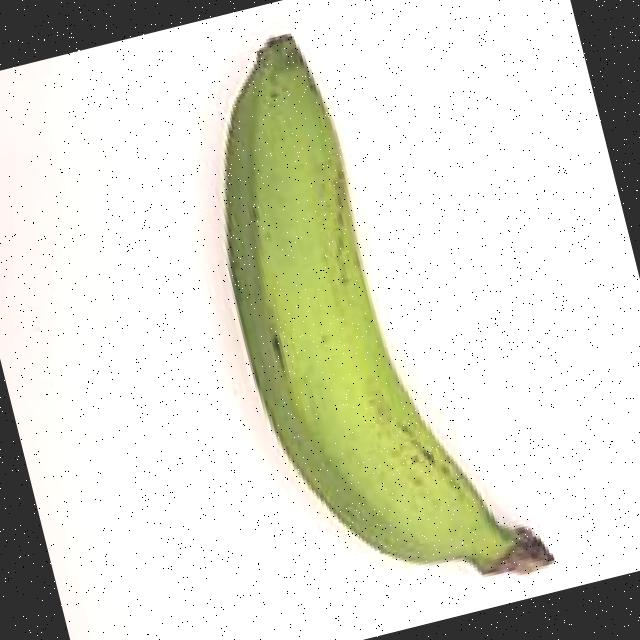Raw: (124, 0, 585, 640)
